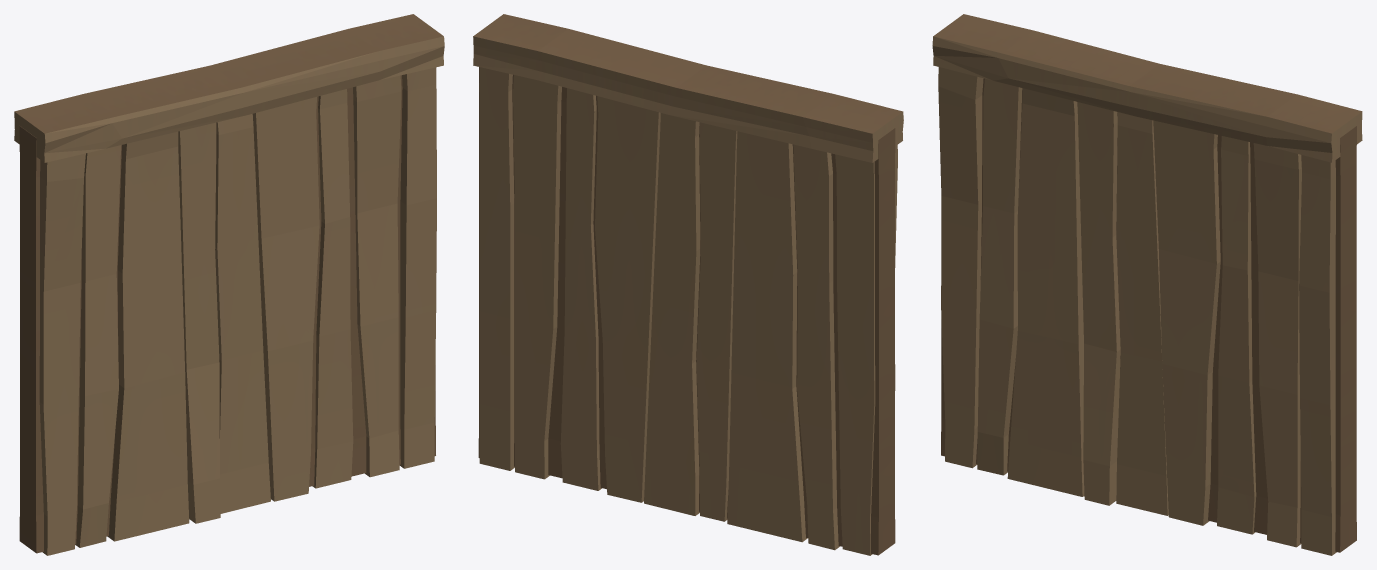
Rendered from wooden_wall.dae.
3 renders of one model, left to right at view 1: azimuth 30°, elevation 25°; view 2: azimuth 150°, elevation 25°; view 3: azimuth 330°, elevation 25°, orthographic.
Parts seen in each view (by area): view 1: wooden_wall, wooden_board; view 2: wooden_wall, wooden_board; view 3: wooden_wall, wooden_board.
Part boxes in pixels (box(x1,y1,x2,y2)): wooden_wall: box(19, 67, 436, 555); wooden_board: box(14, 14, 444, 162); wooden_wall: box(478, 67, 897, 555); wooden_board: box(473, 14, 903, 162); wooden_wall: box(938, 67, 1356, 555); wooden_board: box(932, 14, 1362, 162).
Size of the model in its own units: 2 by 0.2794 by 2.05.
